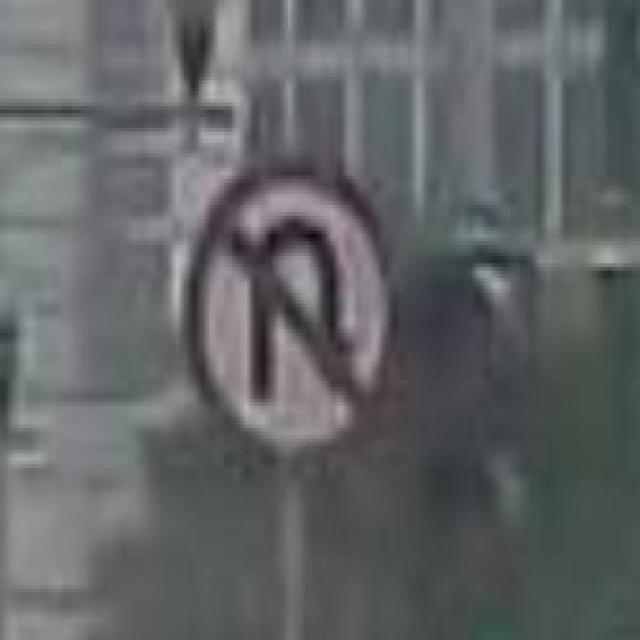traffic sign: (191, 172, 395, 461)
